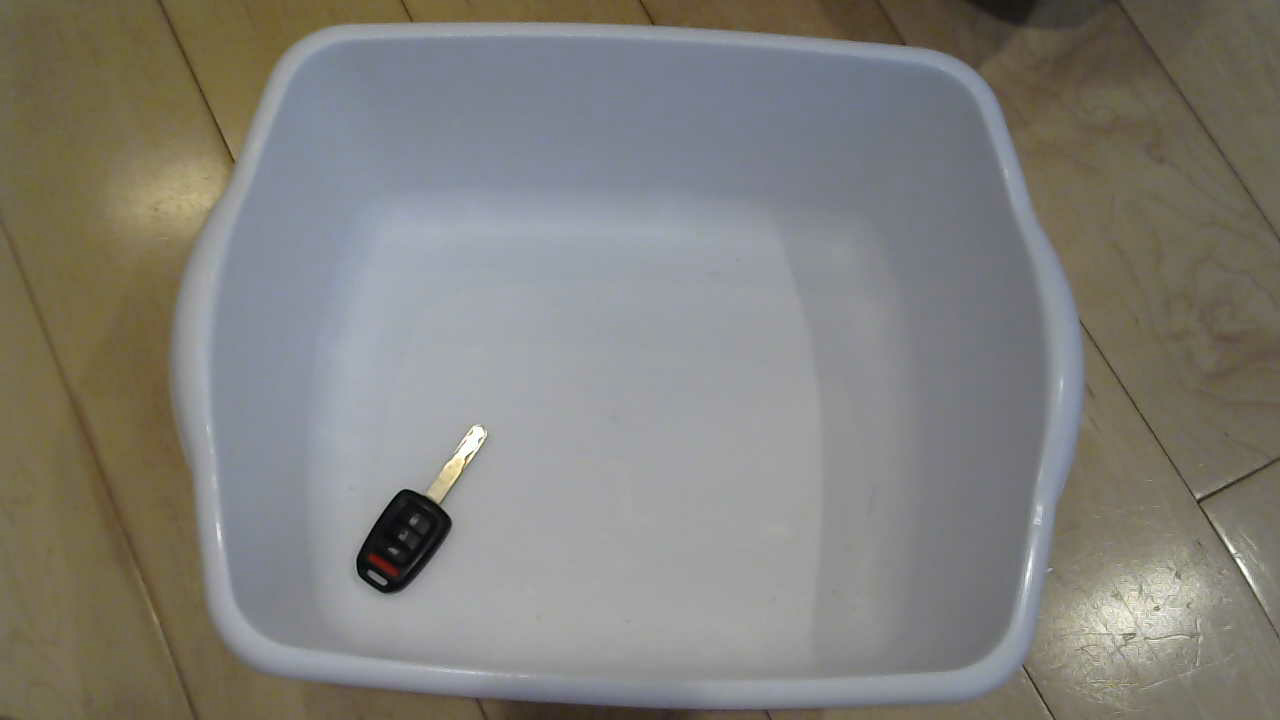key: (349, 424, 503, 598)
